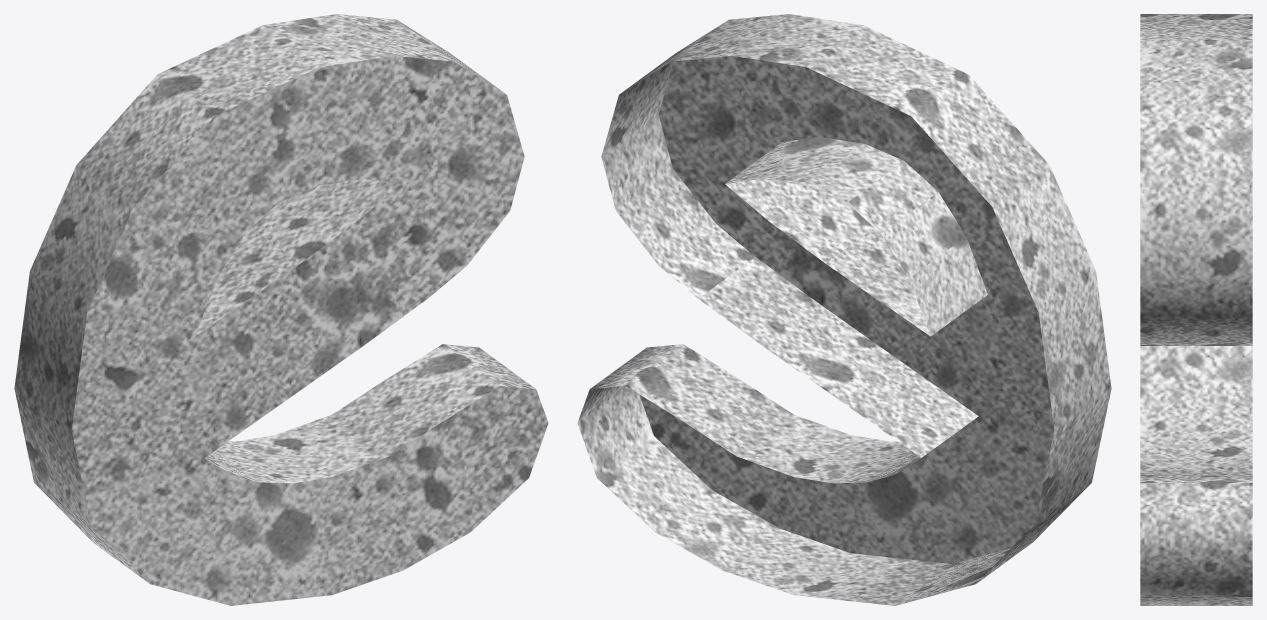
3 views of the same model, side by side, from view 1: azimuth 30°, elevation 25°; view 2: azimuth 150°, elevation 25°; view 3: azimuth 270°, elevation 25° (orthographic).
Visible parts, largest first — view 1: E; view 2: E; view 3: E.
Boxes of the visible parts, x1,y1,x2,y2 form: E: (14, 14, 548, 605); E: (577, 14, 1111, 605); E: (1140, 14, 1252, 605).
Bounding box in the file's own units: 1.2 × 1.28 × 0.25.
